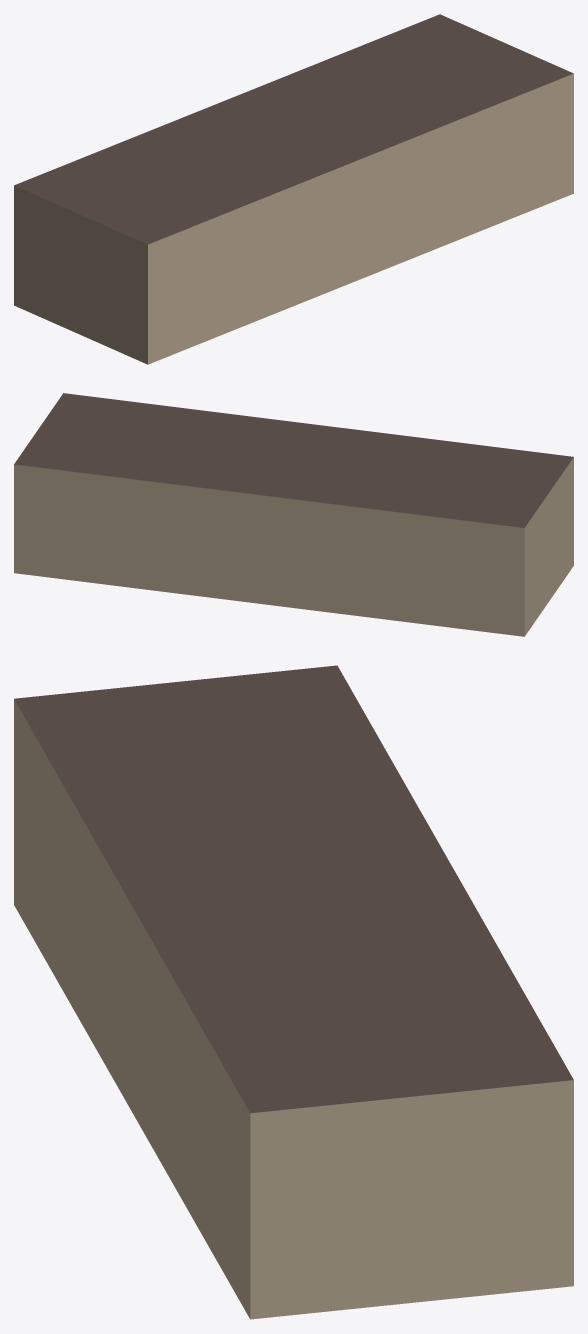
3 renders of one model, top to bottom at view 1: azimuth 30°, elevation 25°; view 2: azimuth 150°, elevation 25°; view 3: azimuth 270°, elevation 25°, orthographic. The views are drawn at different scales.
Parts seen in each view (by area): view 1: HP-w859457415; view 2: HP-w859457415; view 3: HP-w859457415.
Part boxes in pixels (left/top/right/bottom): HP-w859457415: left=14, top=14, right=573, bottom=364; HP-w859457415: left=14, top=393, right=573, bottom=636; HP-w859457415: left=14, top=665, right=573, bottom=1319.
Size of the model in its own units: 41.93 by 9 by 22.15.
